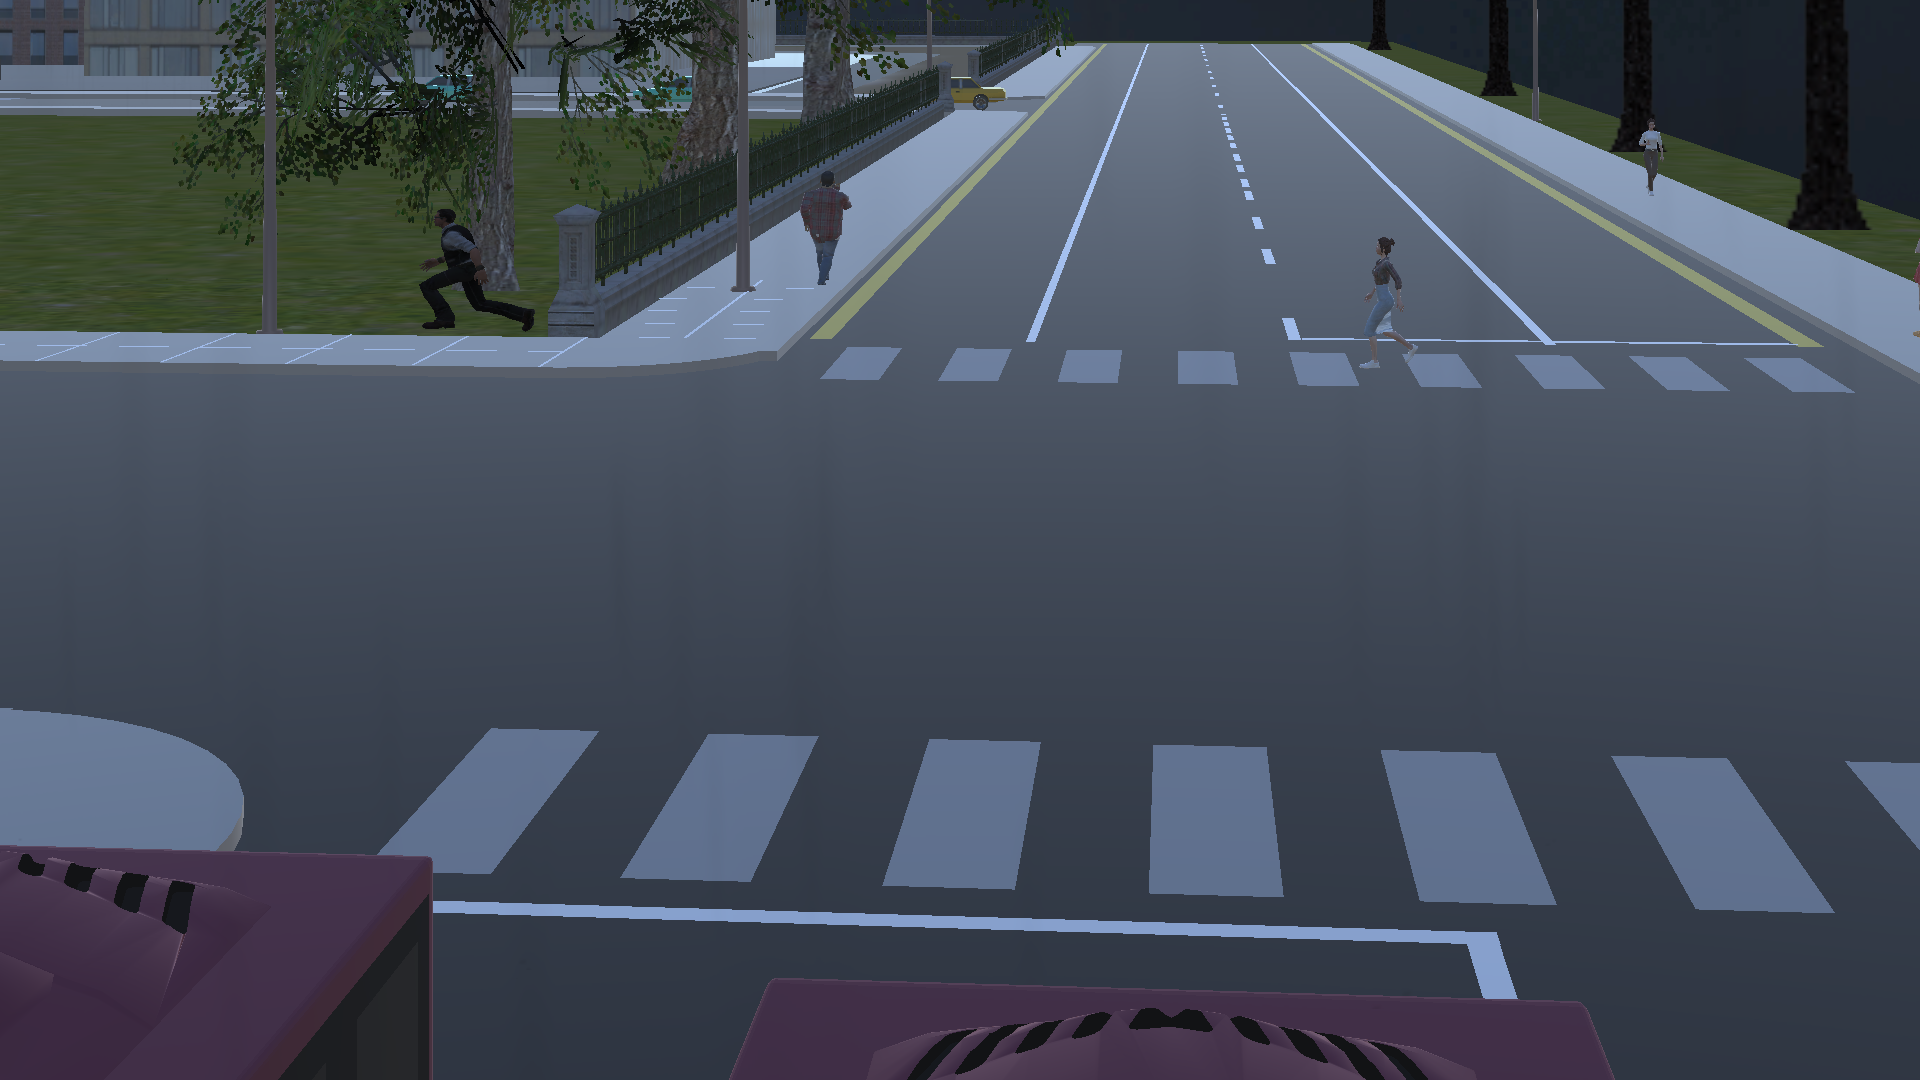pedestrian: (406, 202, 543, 346), (1348, 231, 1430, 383), (782, 164, 864, 307), (1634, 106, 1672, 205)
